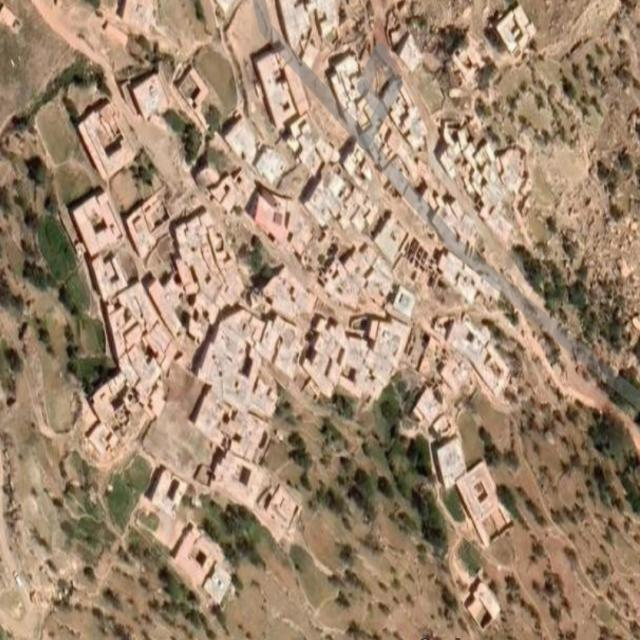Countryside roofs: (185, 312, 288, 431), (311, 308, 406, 407), (161, 212, 249, 310), (454, 458, 529, 553), (102, 298, 174, 391), (73, 377, 143, 466), (72, 92, 140, 178), (306, 140, 376, 221), (450, 311, 512, 402), (177, 528, 241, 612), (247, 46, 314, 121), (434, 242, 504, 306), (66, 191, 128, 250), (218, 450, 264, 528), (456, 568, 517, 626), (327, 58, 382, 121), (258, 266, 314, 326), (371, 200, 416, 273), (139, 466, 195, 524), (124, 192, 170, 251), (221, 108, 266, 168), (254, 181, 300, 237), (86, 250, 131, 302), (496, 3, 530, 71), (129, 70, 168, 114), (388, 41, 432, 78), (179, 68, 213, 107), (422, 462, 460, 488)
